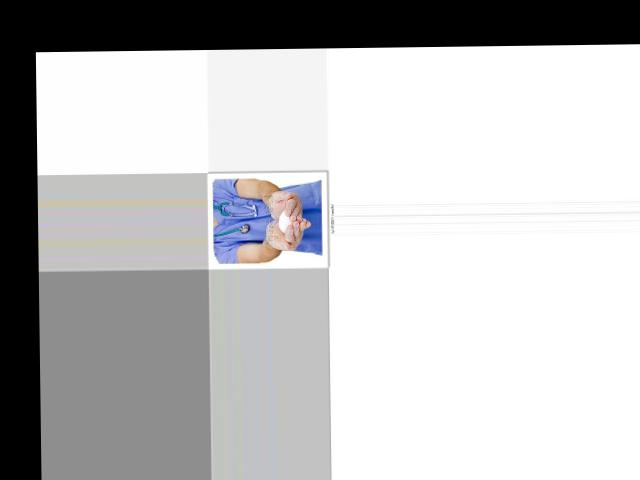egg: (278, 210, 293, 232)
